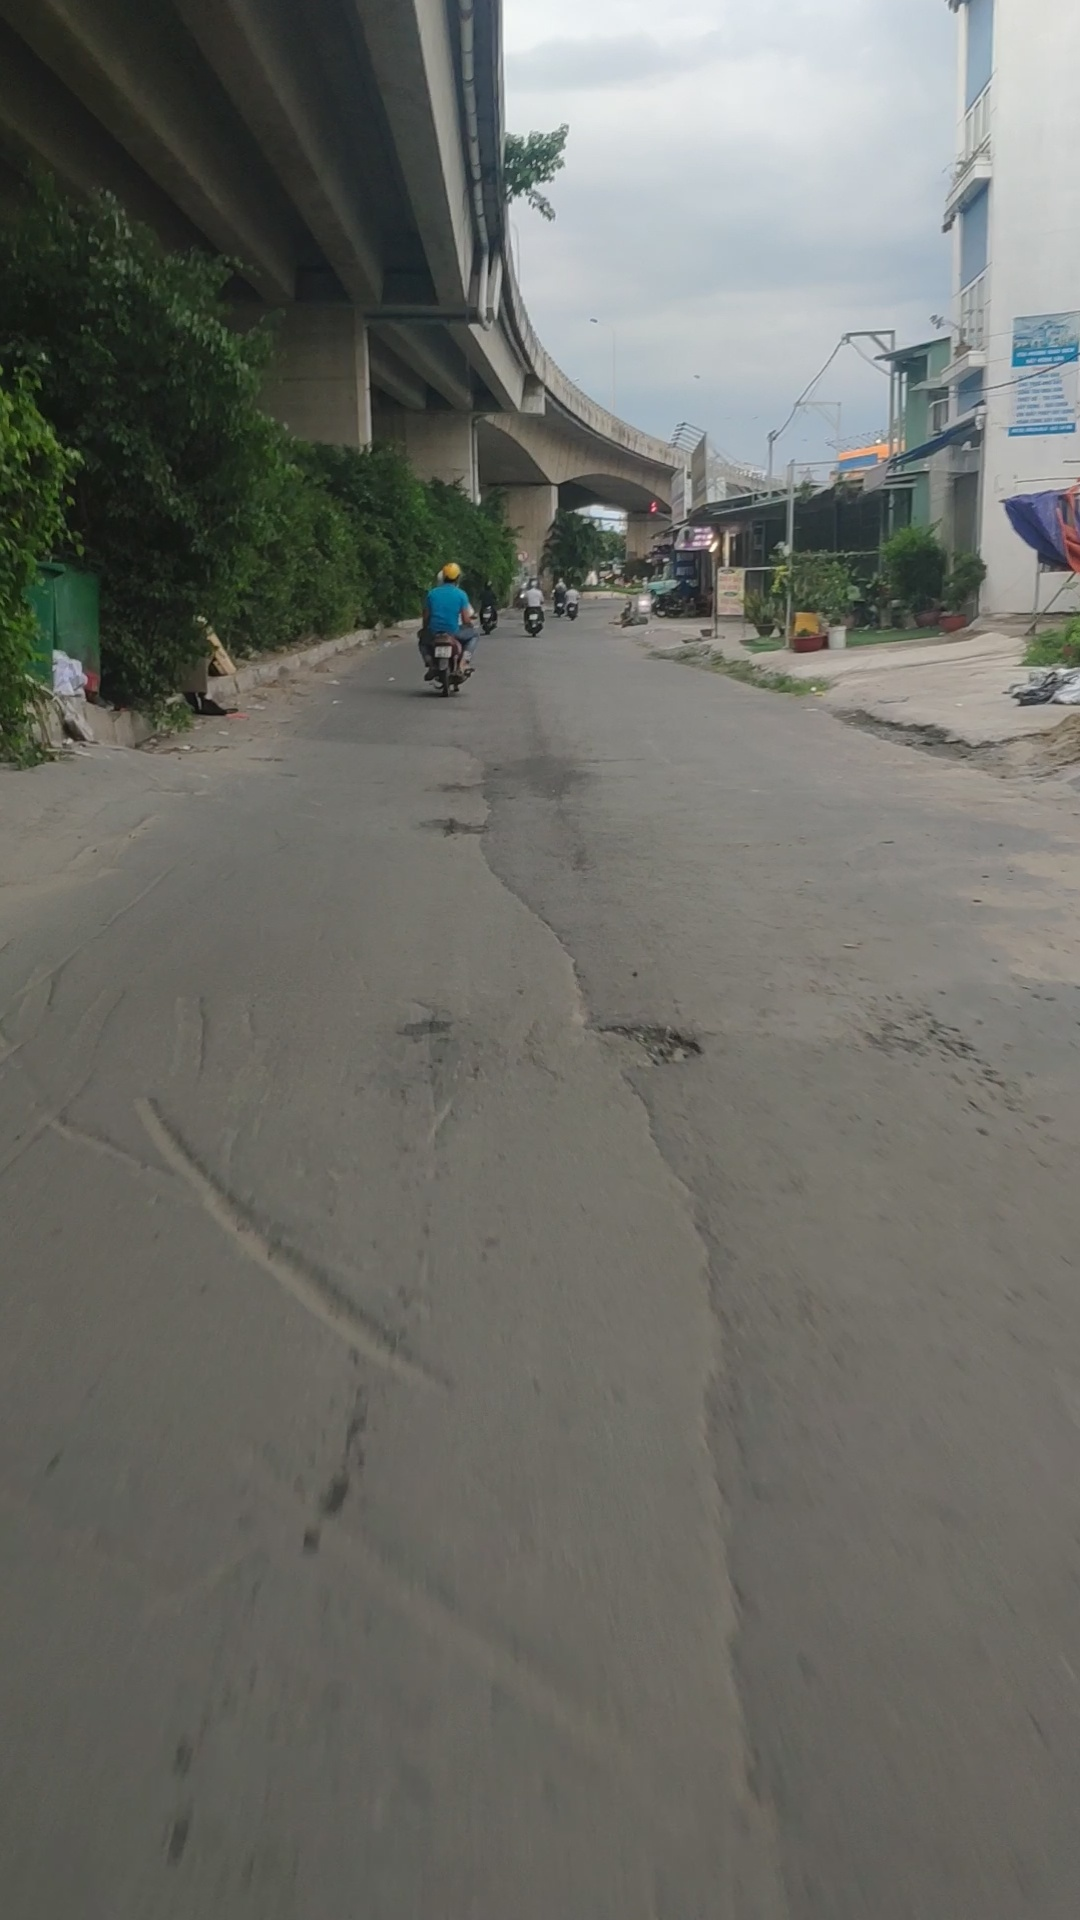hole: (582, 1011, 717, 1073)
